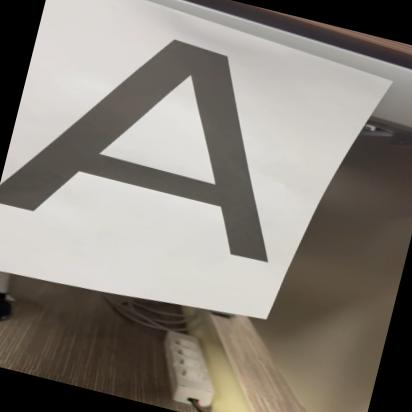seat: (0, 0, 325, 270)
